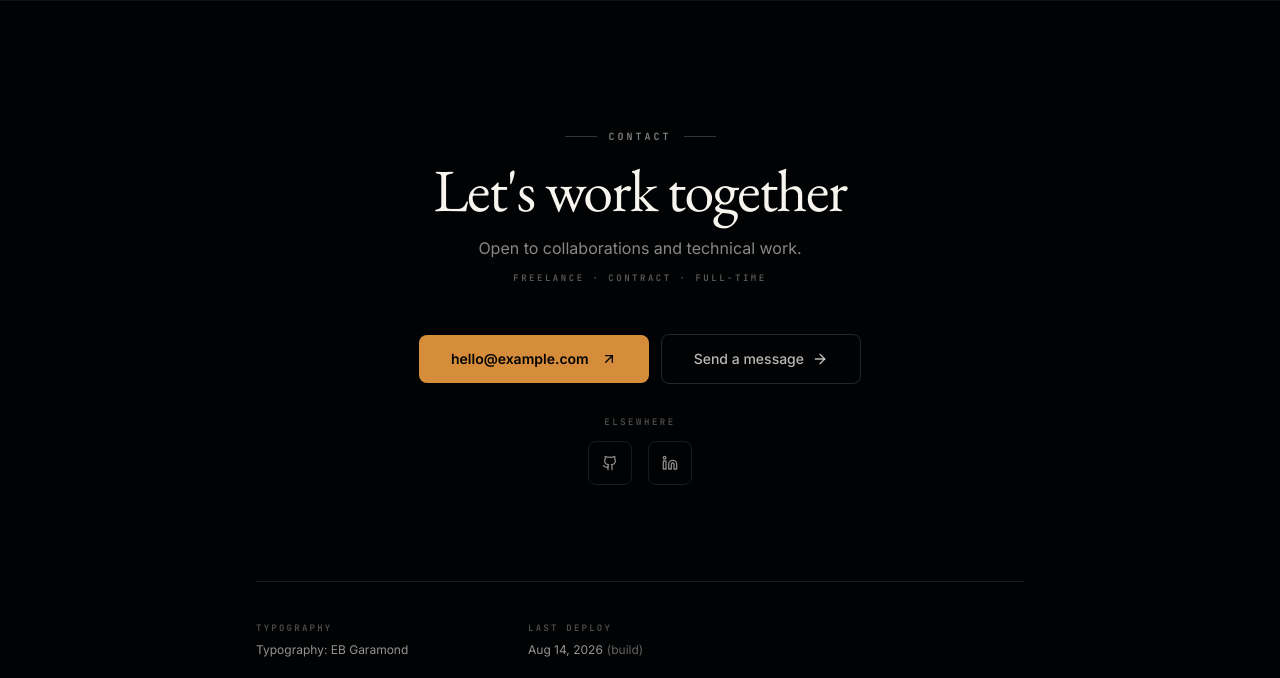
Contact section › shows validation error for short name
The image size is (1280, 678).
Step 1. Click the button "Send a message" → (761, 358), box top-left (661, 334), bottom-right (861, 384)
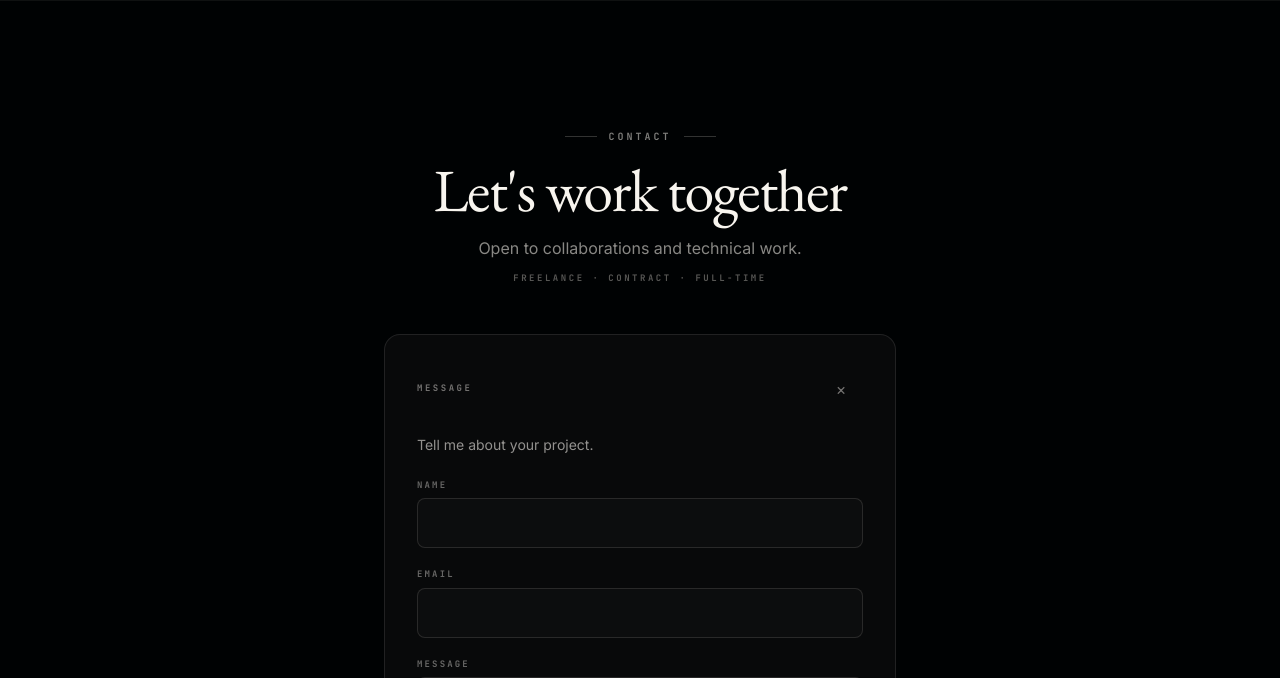
Step 2. Type "A" into the field labelled "Name" → (640, 523), box top-left (417, 498), bottom-right (863, 548)
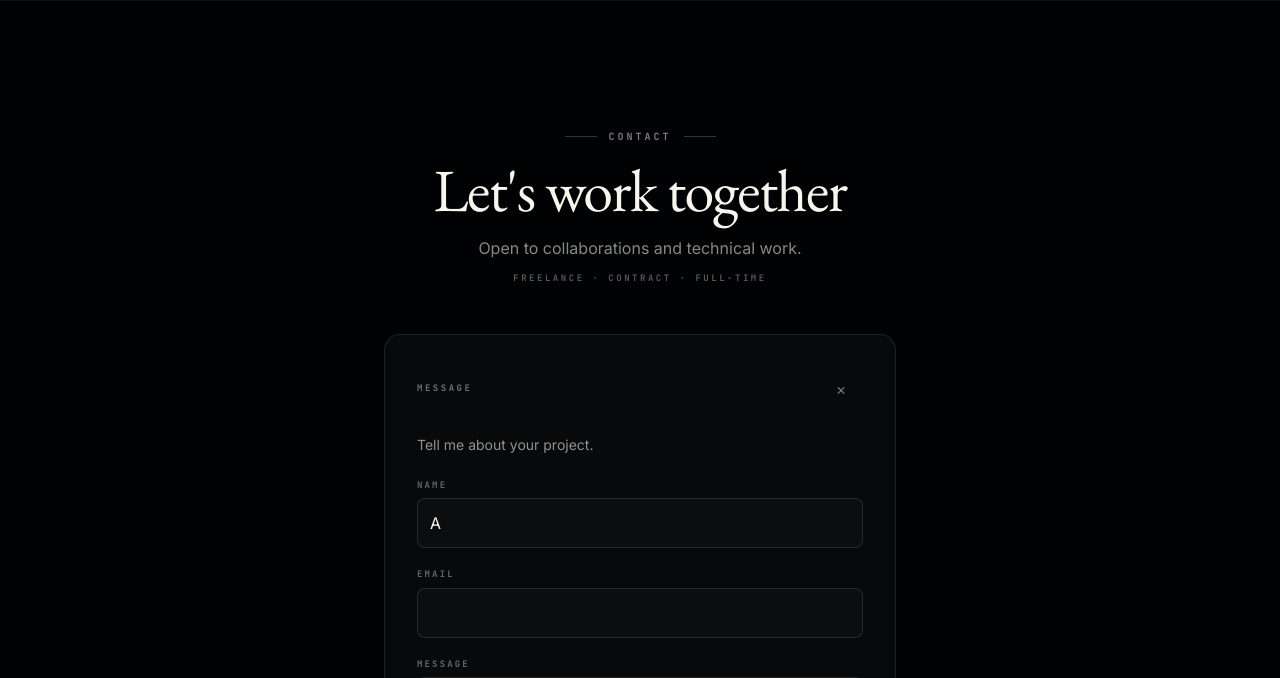
Step 3. Leave the field labelled "Name", box top-left (417, 498), bottom-right (863, 548)
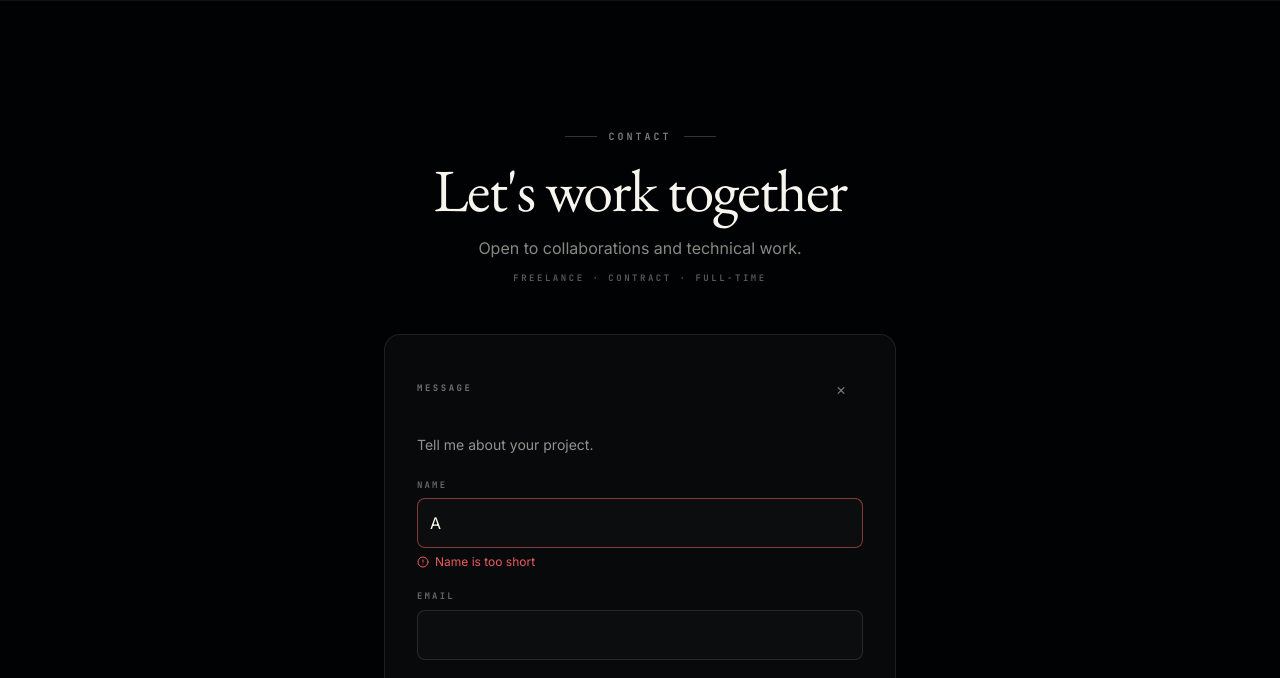
Expected: the text "Name is too short" is shown, top-left (417, 554), bottom-right (535, 569)
